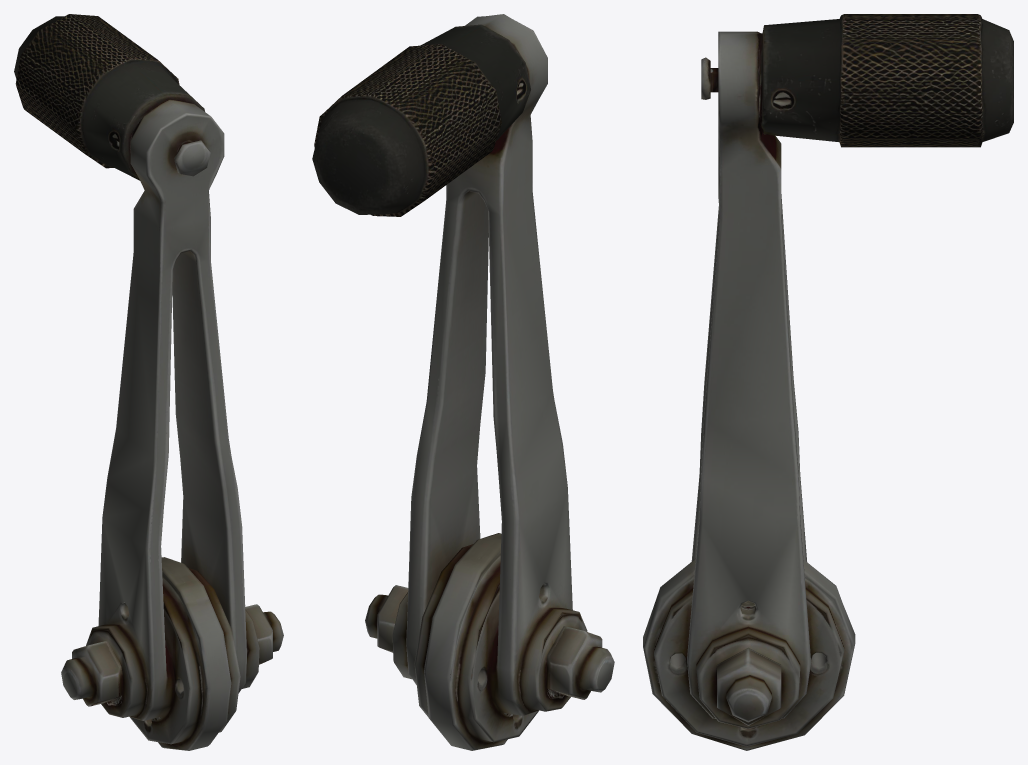
Rendered from throttle_remesh.glb.
3 renders of one model, left to right at view 1: azimuth 30°, elevation 25°; view 2: azimuth 150°, elevation 25°; view 3: azimuth 270°, elevation 25°, orthographic. The views are drawn at different scales.
Parts seen in each view (by area): view 1: tripo_node_c0e02d4f-d01e-4c03-8b93-e168d; view 2: tripo_node_c0e02d4f-d01e-4c03-8b93-e168d; view 3: tripo_node_c0e02d4f-d01e-4c03-8b93-e168d.
Boxes of the visible parts, x1=… form: tripo_node_c0e02d4f-d01e-4c03-8b93-e168d: x1=14, y1=14, x2=283, y2=750; tripo_node_c0e02d4f-d01e-4c03-8b93-e168d: x1=312, y1=14, x2=614, y2=750; tripo_node_c0e02d4f-d01e-4c03-8b93-e168d: x1=643, y1=14, x2=1013, y2=750.
Bounding box in the file's own units: 0.3268 × 0.998 × 0.4618.
1 material, 1 textured.
